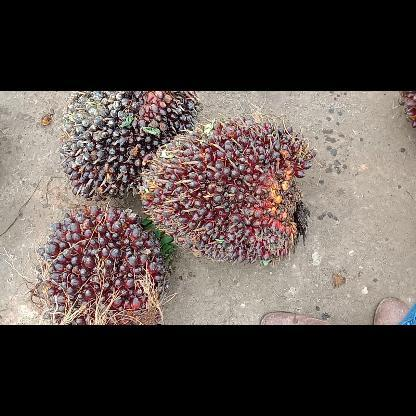Kurang masak: (144, 114, 318, 266), (38, 204, 168, 324)
TBS mentah: (60, 91, 202, 201)
